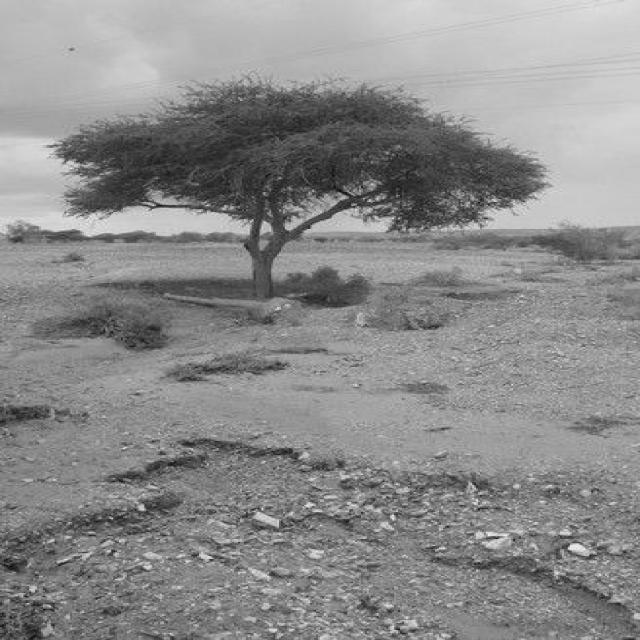Acacia: (65, 99, 520, 276)
